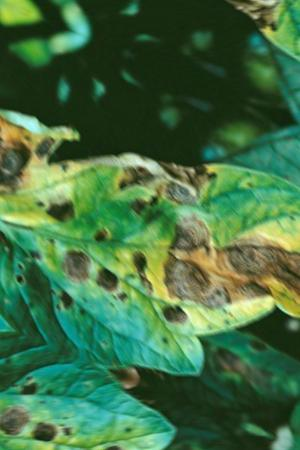Tomato Early blight leaf: (0, 10, 300, 438)
